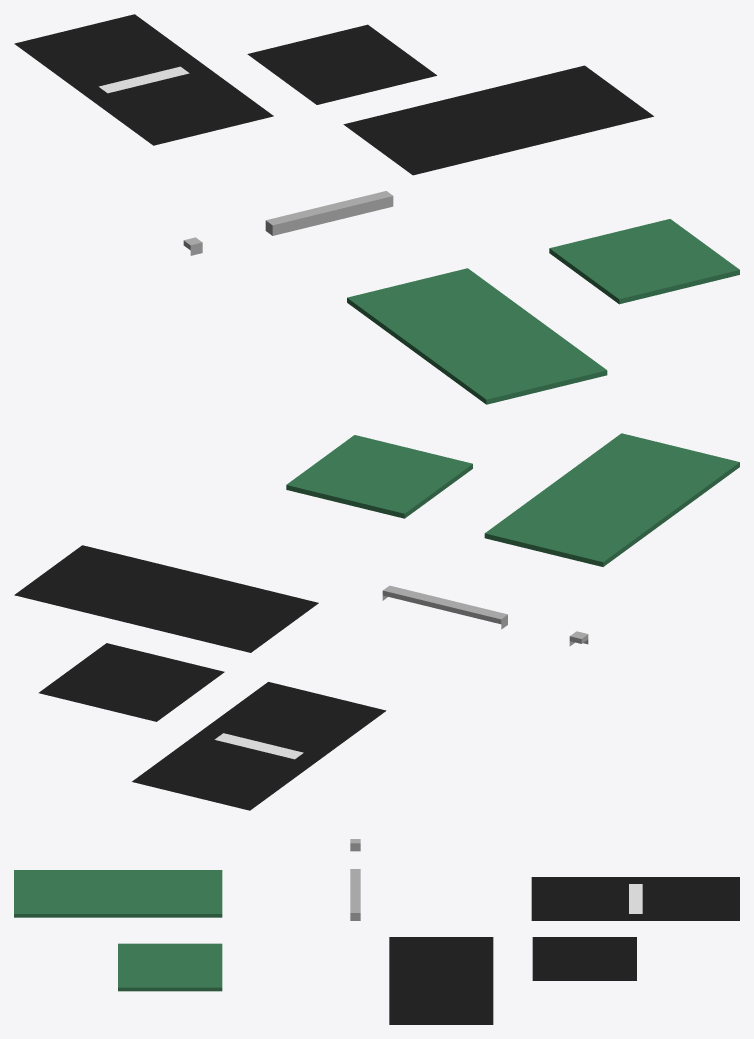
File: road pack.fbx
3 views of the same model, one above another, from view 1: azimuth 30°, elevation 25°; view 2: azimuth 150°, elevation 25°; view 3: azimuth 270°, elevation 25° (orthographic). The views are drawn at different scales.
Visible parts, largest first — view 1: trava, cesta.020, cesta, trava.001, cesta.001, chodnik1; view 2: trava, cesta.020, cesta, trava.001, cesta.001, chodnik1; view 3: trava, cesta.020, cesta, trava.001, cesta.001, chodnik1.
Boxes of the visible parts, left/top/right/bottom form: trava: left=347, top=268, right=607, bottom=404; cesta.020: left=343, top=65, right=653, bottom=175; cesta: left=14, top=14, right=273, bottom=145; trava.001: left=549, top=219, right=739, bottom=304; cesta.001: left=247, top=24, right=436, bottom=104; chodnik1: left=265, top=191, right=393, bottom=235; trava: left=484, top=433, right=739, bottom=566; cesta.020: left=14, top=545, right=318, bottom=652; cesta: left=132, top=682, right=386, bottom=810; trava.001: left=286, top=435, right=472, bottom=518; cesta.001: left=39, top=643, right=224, bottom=721; chodnik1: left=382, top=585, right=507, bottom=629; trava: left=14, top=870, right=222, bottom=917; cesta.020: left=389, top=937, right=493, bottom=1024; cesta: left=531, top=877, right=739, bottom=920; trava.001: left=118, top=943, right=222, bottom=991; cesta.001: left=532, top=937, right=636, bottom=980; chodnik1: left=350, top=869, right=360, bottom=920.
Bounding box in the file's own units: 10.14 × 17.42 × 0.233.
4 materials, 4 textured.
